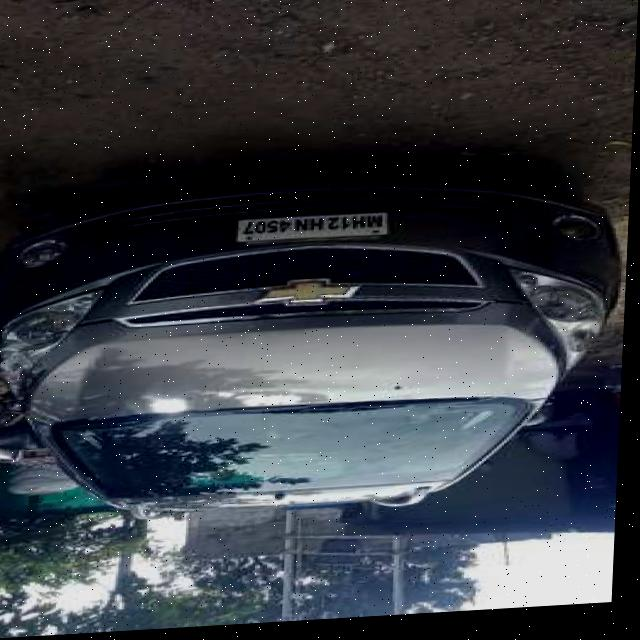plate: (239, 215, 393, 247)
